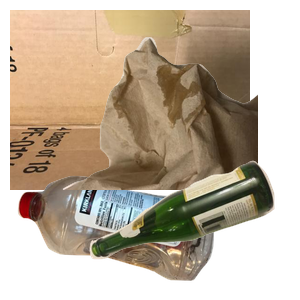cardboard: (10, 10, 250, 190)
glass: (87, 158, 300, 300)
plastic: (15, 173, 222, 300)
trash: (60, 35, 300, 215)
